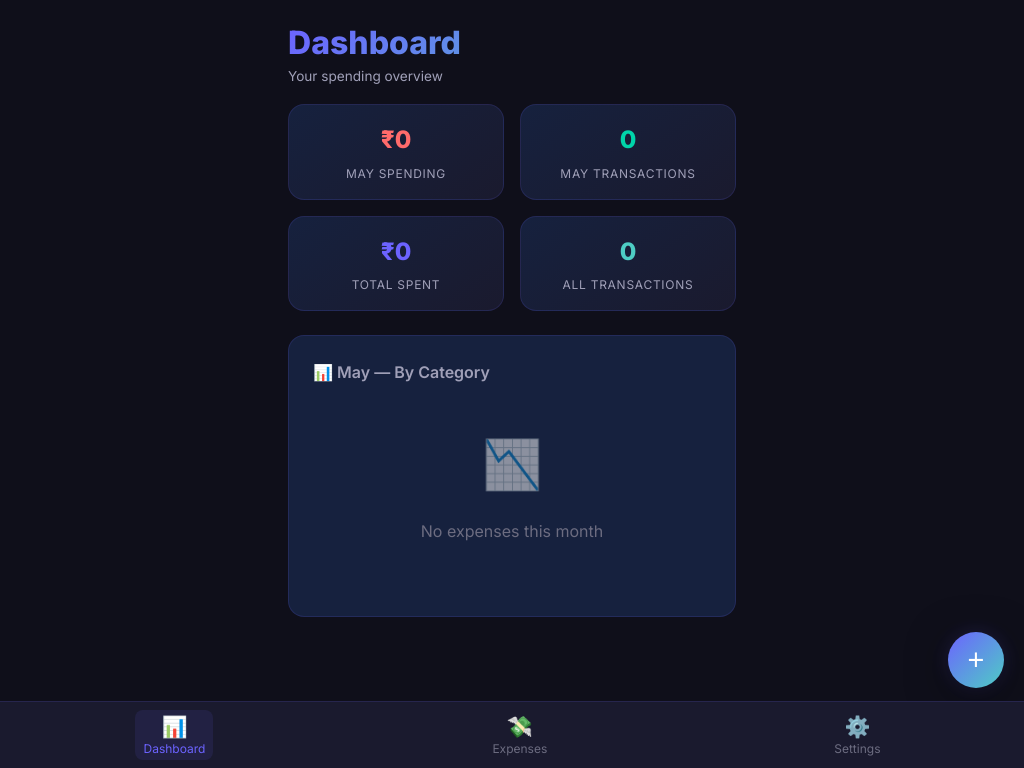
Test: Add Expense — Integration › shows validation errors when submitting empty form
Click the button named "Add expense" at (976,660), box [948, 632, 1004, 688]
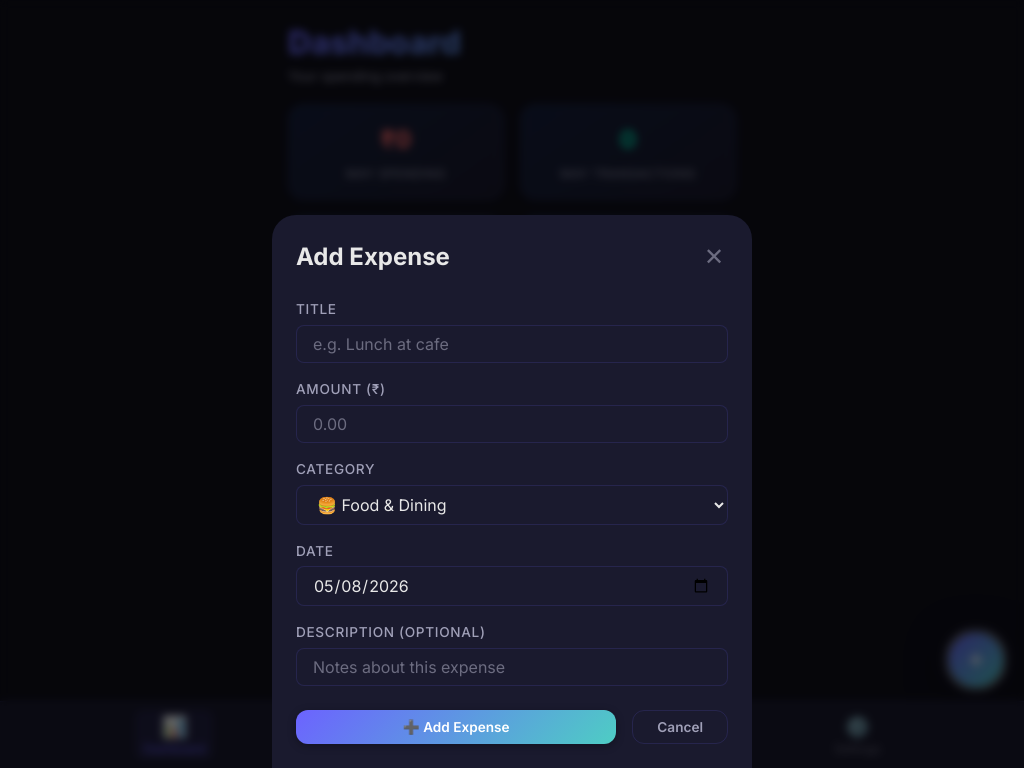
Clear the default date and title (title is already empty)
Clear the number field with placeholder "0.00" at (512,424), box [296, 405, 728, 443]
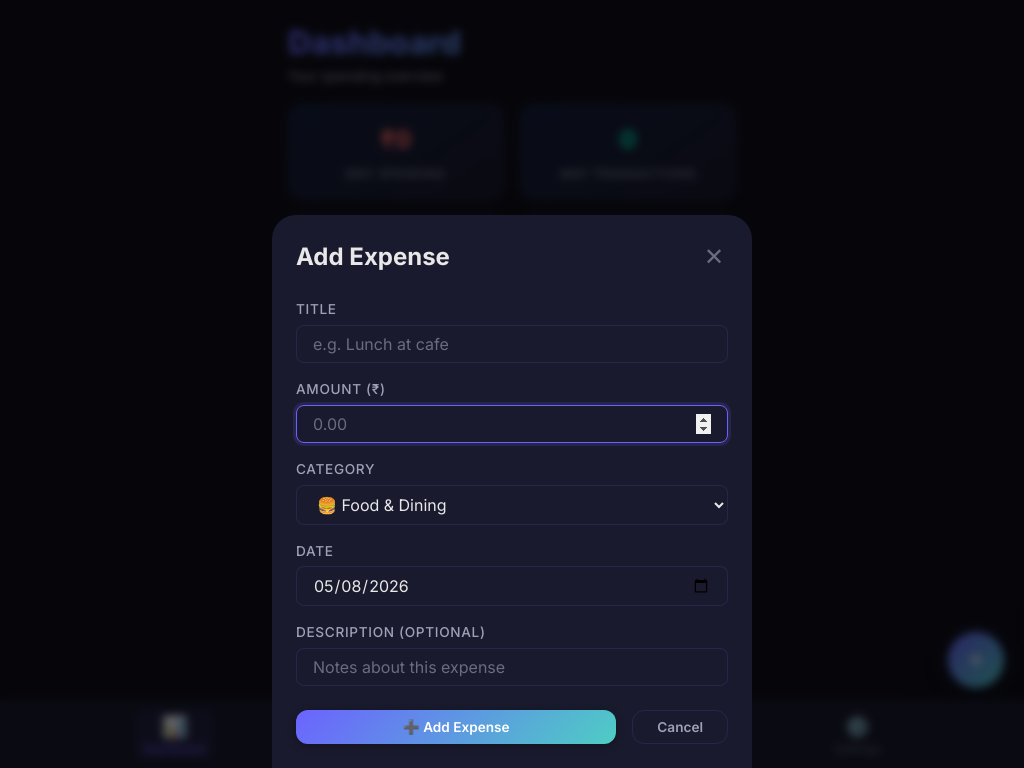
Click the button "➕ Add Expense" at (456,727), box [296, 710, 616, 744]
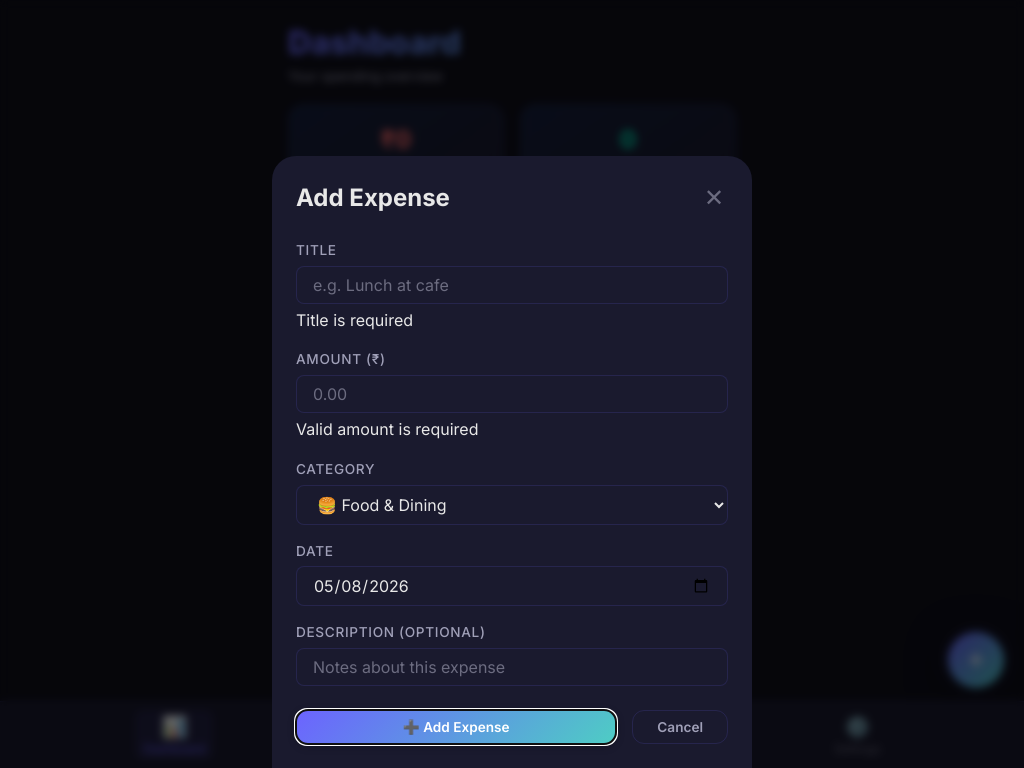
Expected: the text "Title is required" is shown, [296, 310, 413, 330]
Expected: the text "Valid amount is required" is shown, [296, 419, 478, 439]
